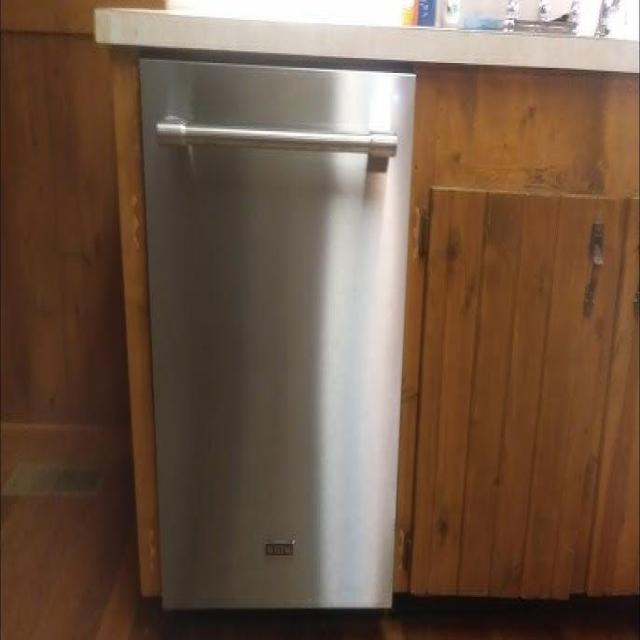dishwasher: (139, 43, 403, 619)
